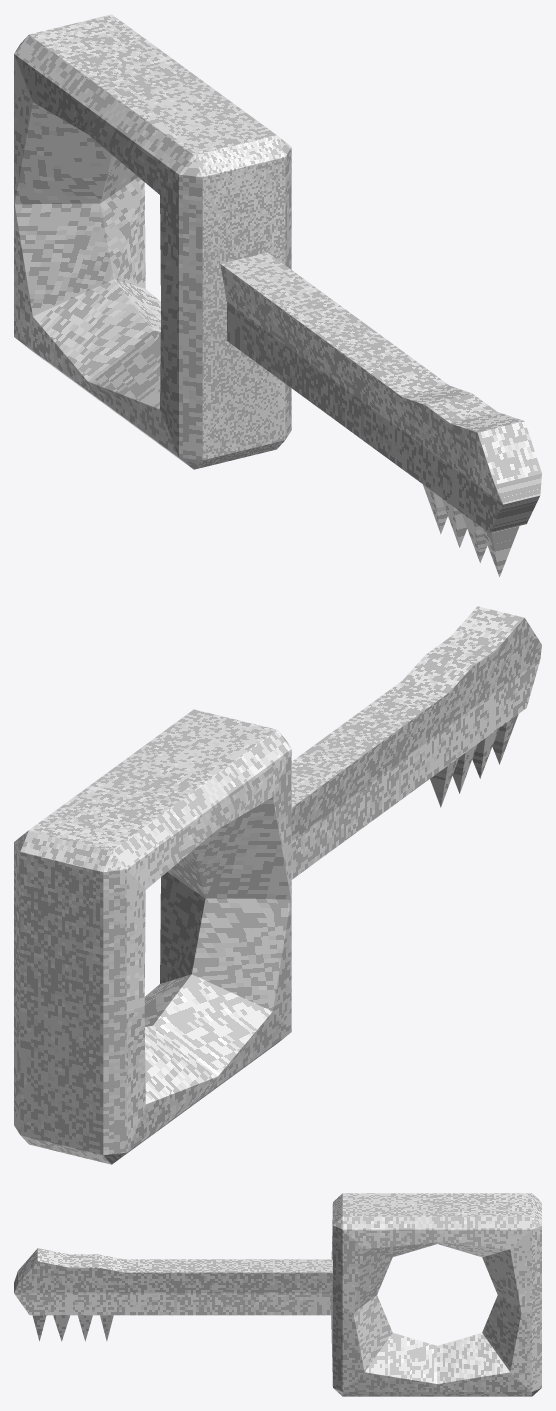
The model's file is key.glb.
3 renders of one model, top to bottom at view 1: azimuth 30°, elevation 25°; view 2: azimuth 150°, elevation 25°; view 3: azimuth 270°, elevation 25°, orthographic. The views are drawn at different scales.
Visible parts, largest first — view 1: Cube; view 2: Cube; view 3: Cube.
Part boxes in pixels (bbox=[...]): Cube: bbox=[14, 14, 541, 576]; Cube: bbox=[14, 606, 541, 1164]; Cube: bbox=[14, 1193, 541, 1396].
Size of the model in its own units: 0.2741 by 0.6334 by 1.68.
Materials: 1 (1 with a texture image).
